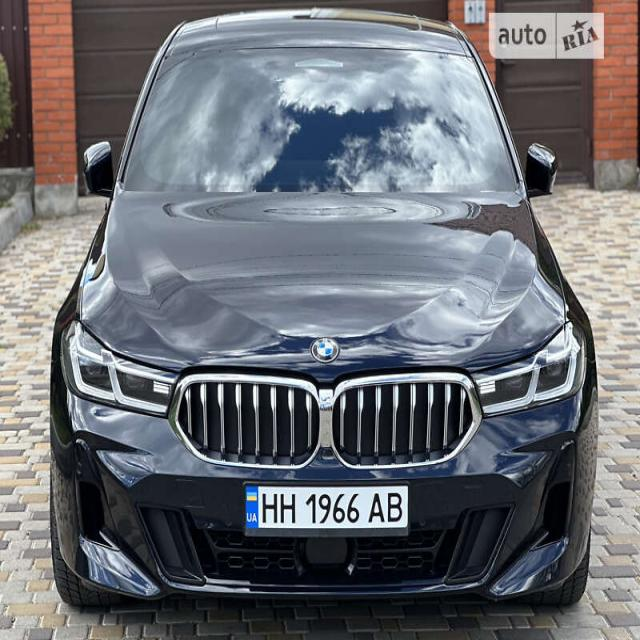plate: (244, 473, 412, 541)
